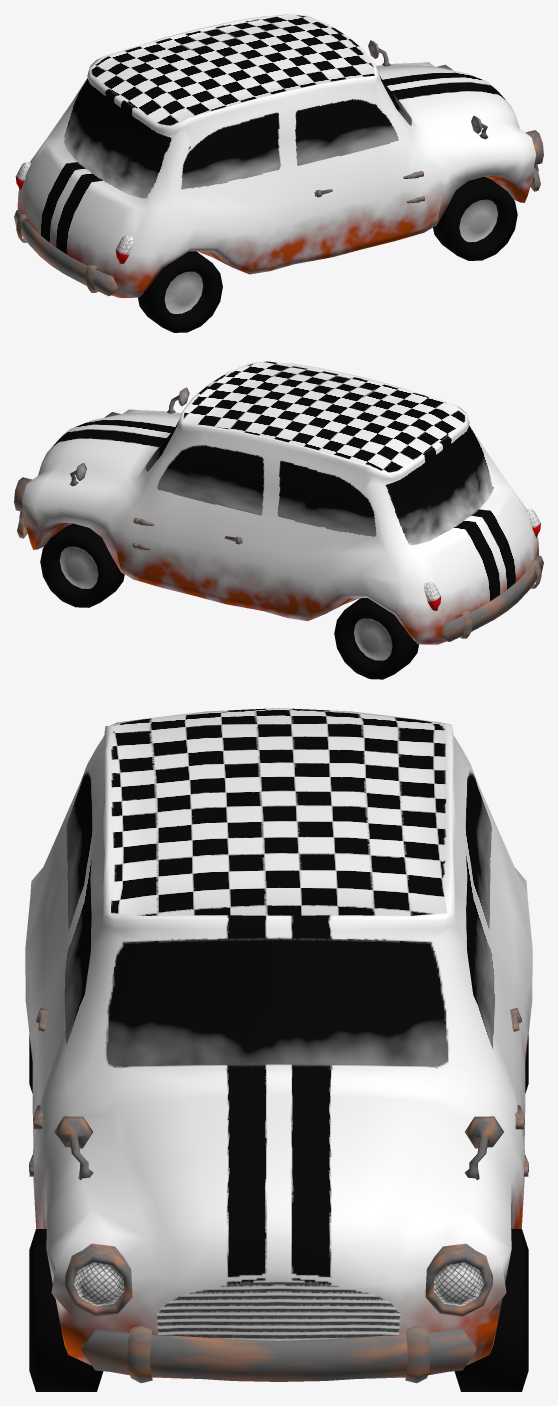
The model's file is carwhite.glb.
3 views of the same model, one above another, from view 1: azimuth 30°, elevation 25°; view 2: azimuth 150°, elevation 25°; view 3: azimuth 270°, elevation 25° (orthographic). The views are drawn at different scales.
Visible parts, largest first — view 1: carwhite, lowpolywheel.033, lowpolywheel.034, Cube.025, backlight.008, RETROVISEURLOW.008; view 2: carwhite, lowpolywheel.036, lowpolywheel.035, Cube.025, backlight.008, RETROVISEURLOW.008; view 3: carwhite, Cube.026, lightinfront.008, lowpolywheel.033, lowpolywheel.036, RETROVISEURLOW.008, Cube.027.
Part boxes in pixels (left/top/right/bottom): carwhite: left=17, top=14, right=536, bottom=297; lowpolywheel.033: left=433, top=176, right=517, bottom=260; lowpolywheel.034: left=138, top=251, right=222, bottom=332; Cube.025: left=14, top=209, right=118, bottom=296; backlight.008: left=15, top=162, right=132, bottom=264; RETROVISEURLOW.008: left=368, top=40, right=488, bottom=139; carwhite: left=21, top=361, right=538, bottom=644; lowpolywheel.036: left=40, top=523, right=124, bottom=607; lowpolywheel.035: left=334, top=598, right=418, bottom=679; Cube.025: left=440, top=555, right=543, bottom=641; backlight.008: left=424, top=509, right=540, bottom=610; RETROVISEURLOW.008: left=69, top=387, right=189, bottom=486; carwhite: left=25, top=708, right=532, bottom=1378; Cube.026: left=81, top=1326, right=476, bottom=1383; lightinfront.008: left=65, top=1243, right=492, bottom=1316; lowpolywheel.033: left=29, top=1229, right=103, bottom=1391; lowpolywheel.036: left=454, top=1229, right=528, bottom=1391; RETROVISEURLOW.008: left=54, top=1116, right=503, bottom=1180; Cube.027: left=29, top=1008, right=528, bottom=1176.
Bounding box in the file's own units: 8.13 × 3.46 × 3.93.
Materials: 1 (1 with a texture image).
